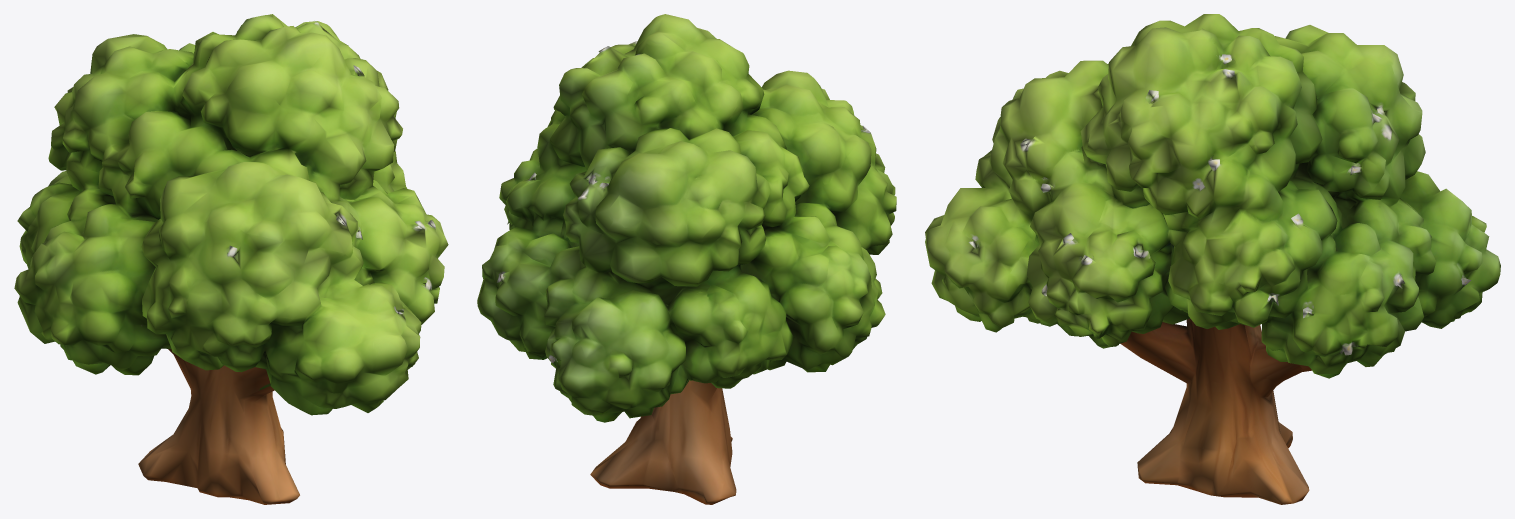
File: tree_4k.glb
3 views of the same model, side by side, from view 1: azimuth 30°, elevation 25°; view 2: azimuth 150°, elevation 25°; view 3: azimuth 270°, elevation 25° (orthographic). The views are drawn at different scales.
Size of the model in its own units: 0.7588 by 0.8728 by 0.9746.
Materials: 1 (1 with a texture image).
